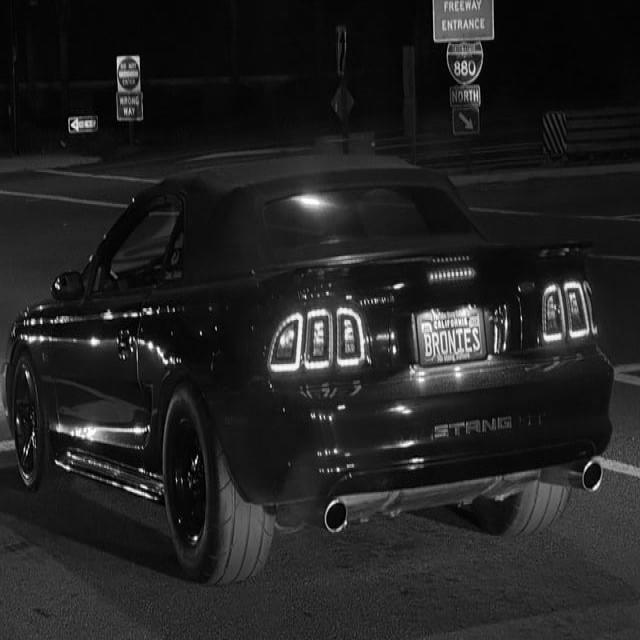LicensePlate: (413, 302, 487, 365)
